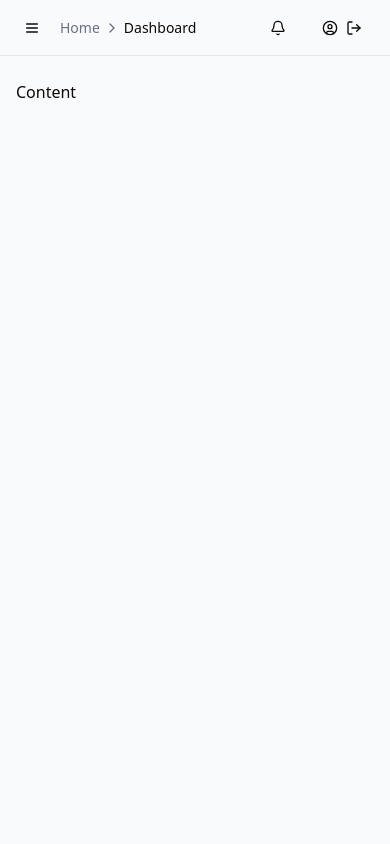
it: MainLayout › opens and closes the mobile drawer
The image size is (390, 844).
Step 1. Click the button named "Open navigation" → (32, 28), box 16,12 -> 48,44
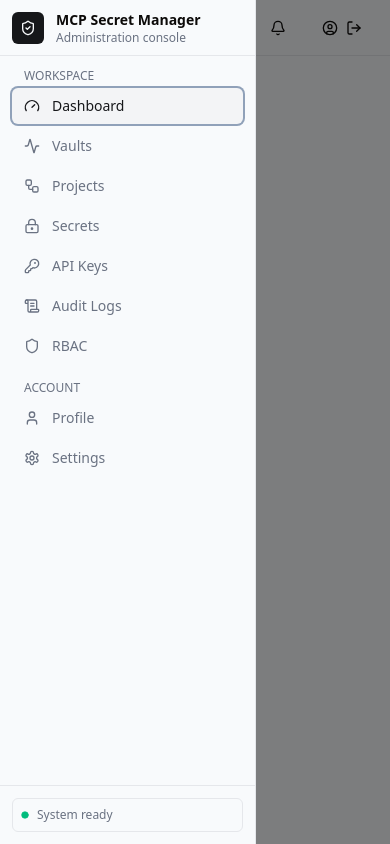
expect the dialog is shown: met
Step 2. Press Escape
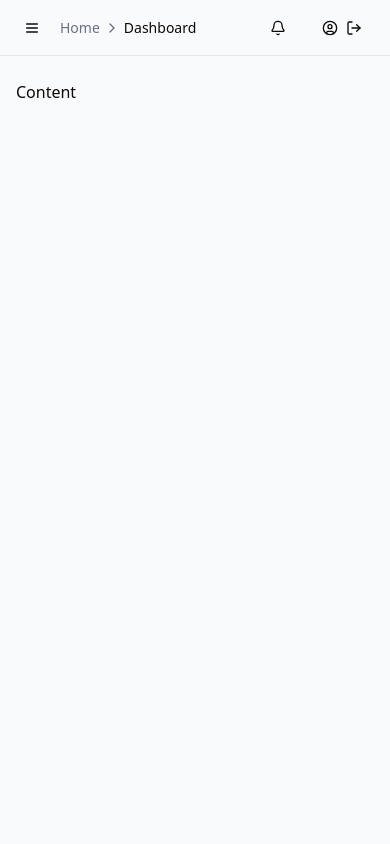
expect the dialog is gone: met
